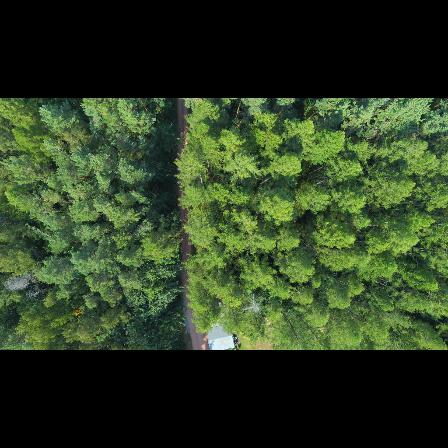Dead: (2, 272, 30, 292), (243, 295, 264, 315), (26, 285, 47, 302)
